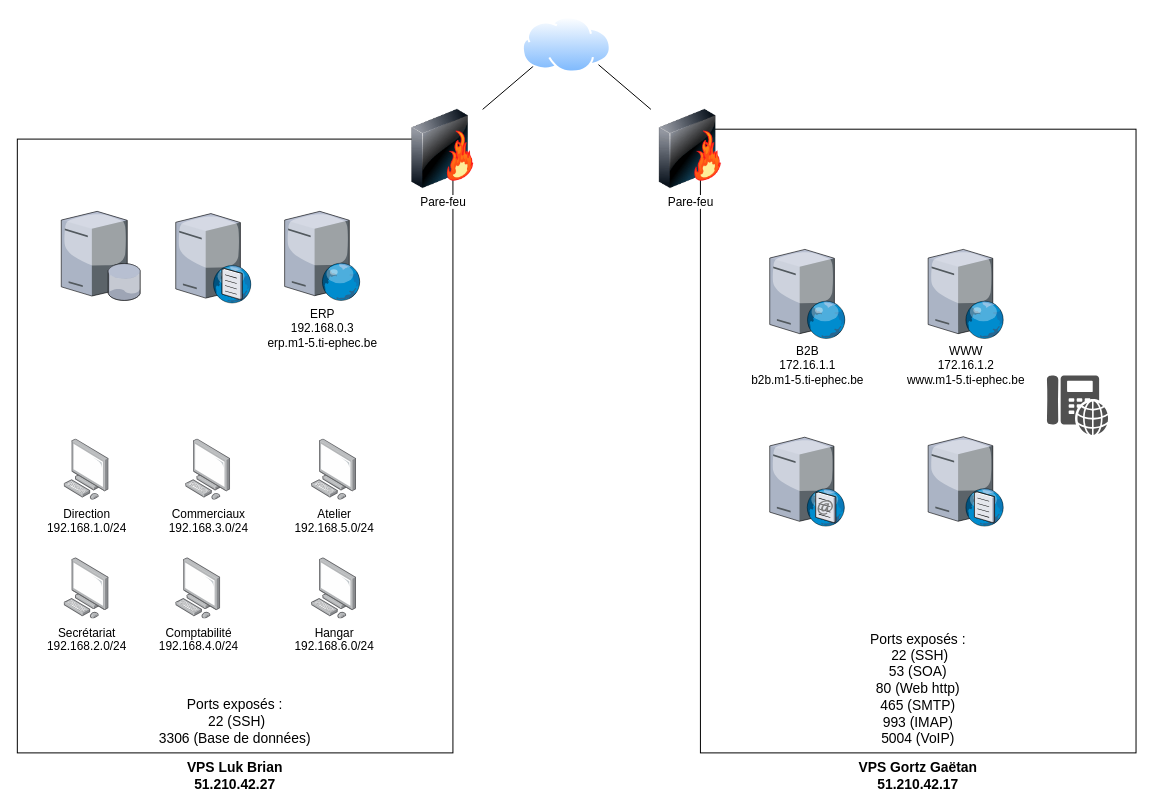
Image size: 1153x811. Some labels were removed from this diagram. The centre of each missing label's shape, as x and y in pixels:
"Base de données 192.168.0.1" belongs at (100,255).
"INTERNET" belongs at (566,44).
"Mail 172.16.1.3" belongs at (806,480).
"SOA Externe 172.16.1.4" belongs at (965,480).
"SOA Interne 192.168.0.2" belongs at (213,256).
"VoIP" belongs at (1077,405).
